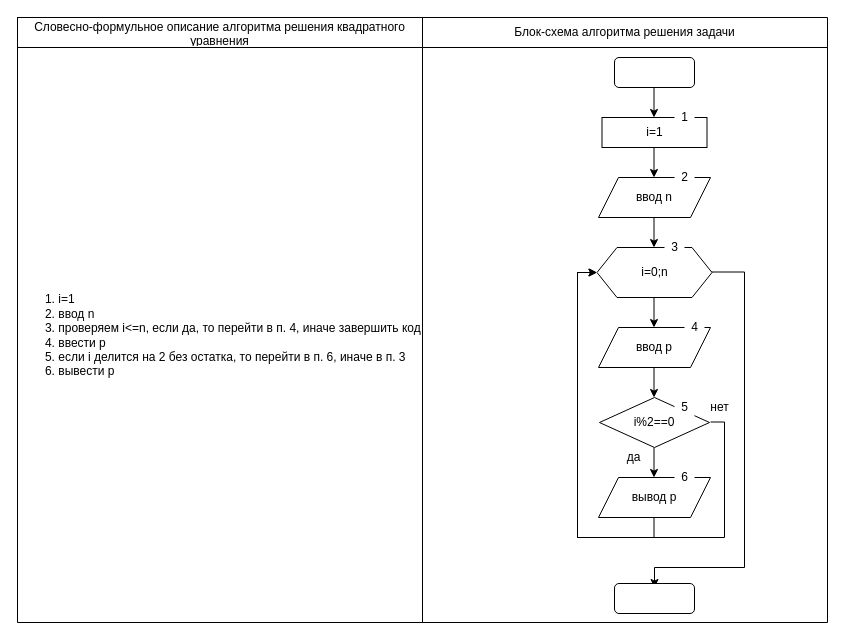
Some shapes in this 845 by 640 pixel diagram are drawn without their labels. Here are the shapes that lost their labels. From the top down, the centre of each, then its label:
At point 654,72: "начало".
At point 654,598: "конец".
